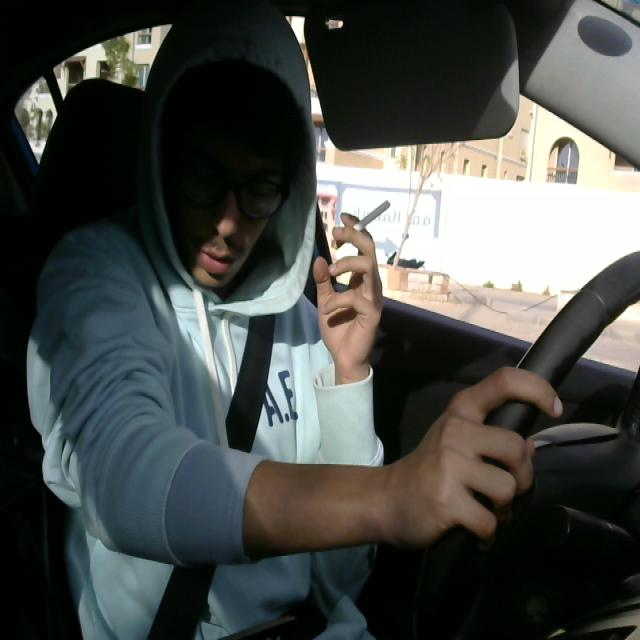smoking: (326, 191, 398, 260)
